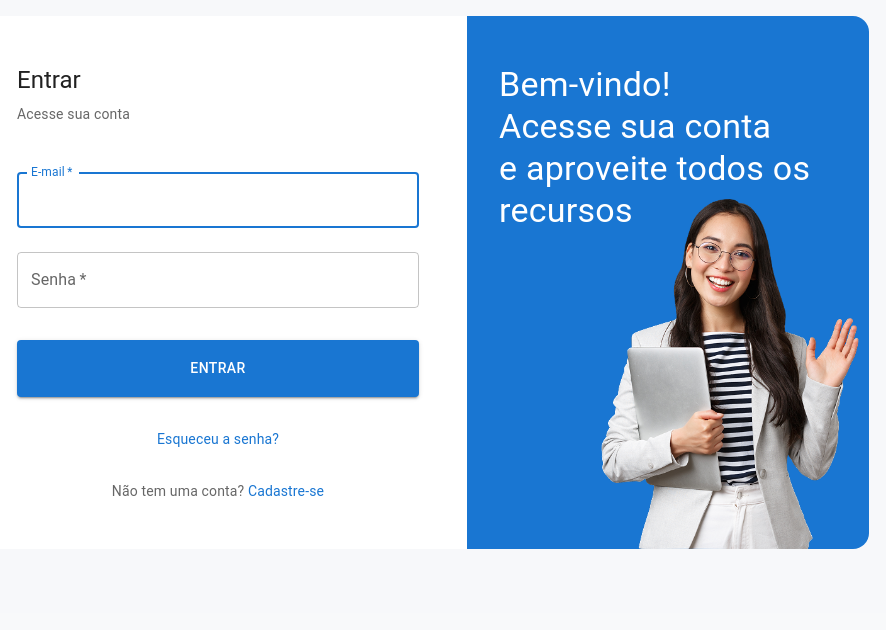
LoginPage › exibe erro para login inválido
This screenshot has width=886, height=630.
Type "test@example.com" into the field with test id "email".
click(218, 200); type("test@example.com")  # box [17,172,419,228]
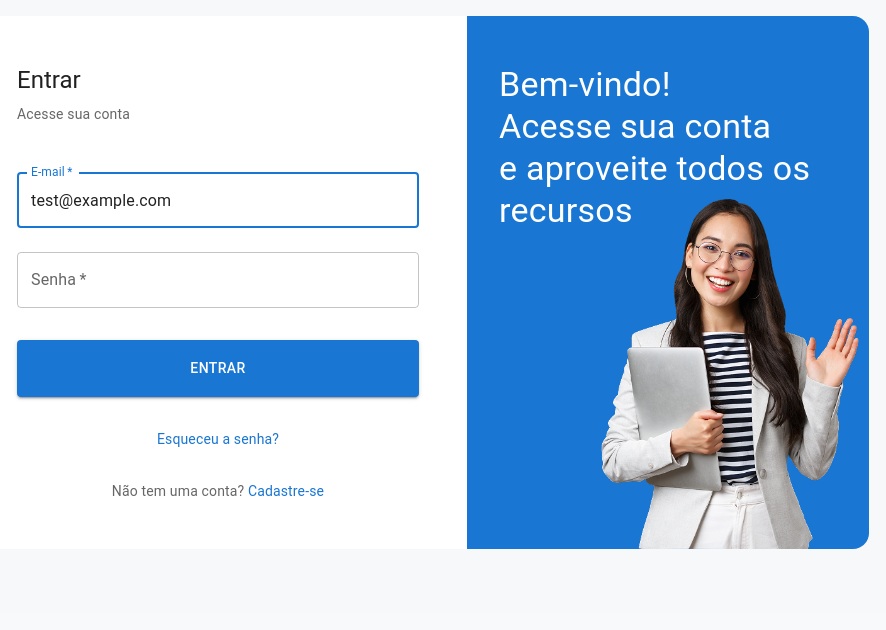
Type "wrongpassword" into the password field with test id "password".
click(218, 280); type("wrongpassword")  # box [17,252,419,308]
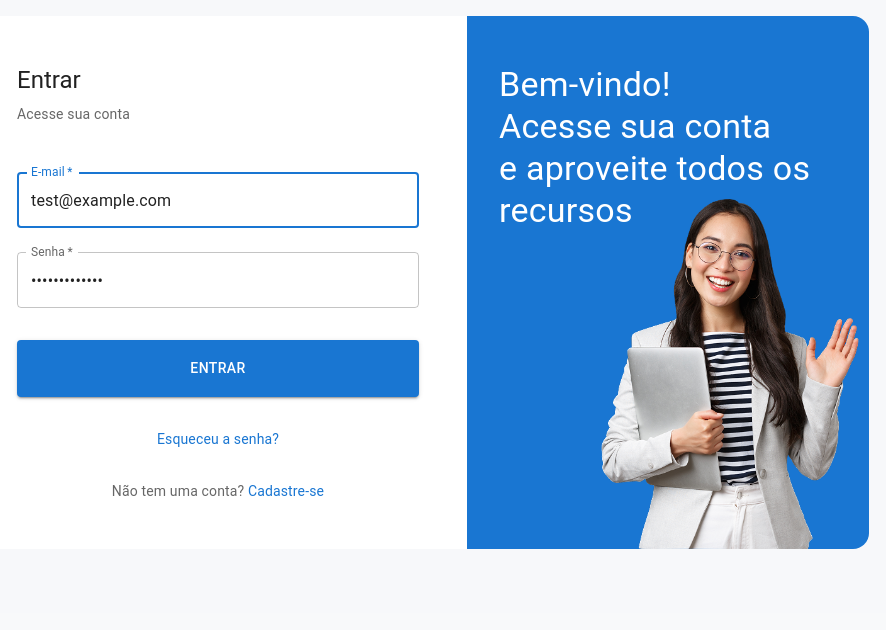
Submit the form, box [17,156,419,413]
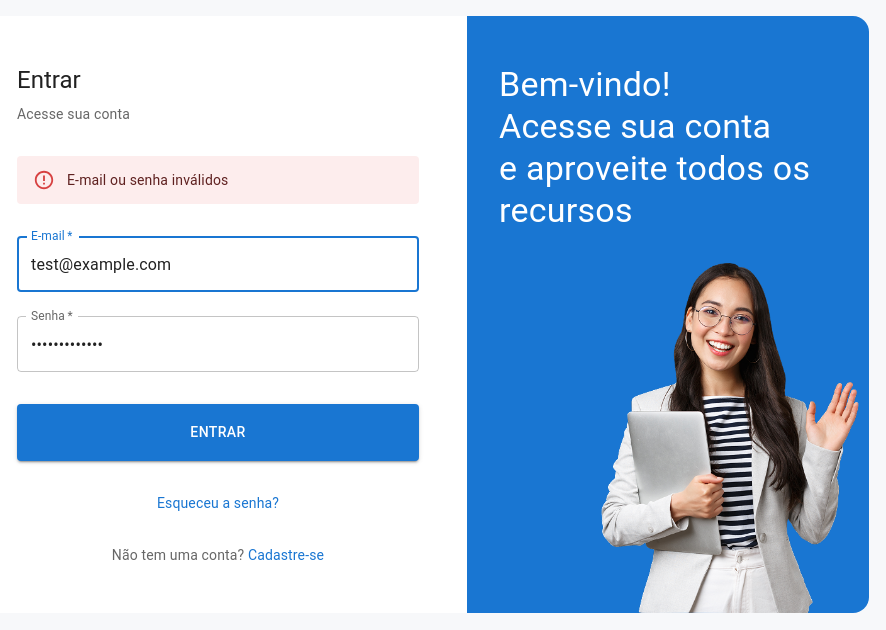
Expected: the text "E-mail ou senha inválidos" is shown, [67,172,228,188]
